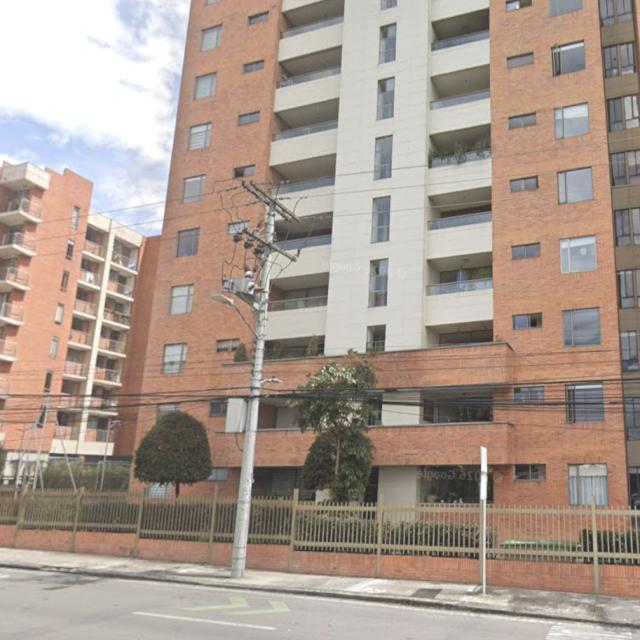fachada: (135, 0, 639, 504), (0, 164, 153, 477)
poste: (230, 202, 273, 578), (31, 396, 49, 490), (479, 447, 486, 594), (98, 418, 111, 492)
